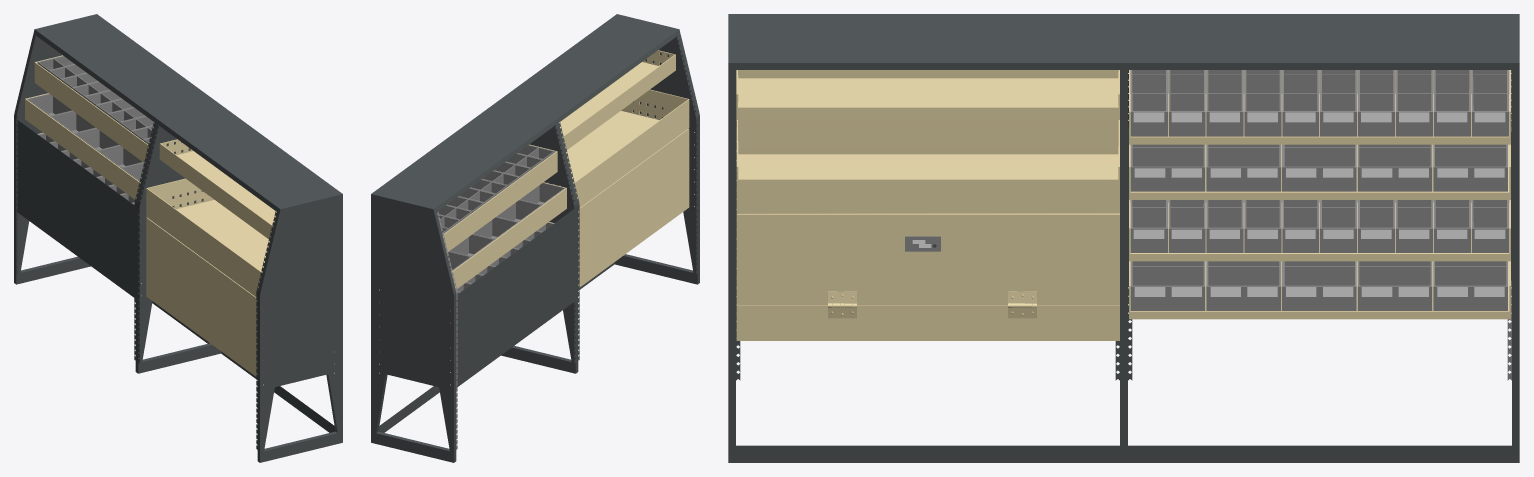
Rendered from ContractorsKit–LongBays.fbx.
3 views of the same model, side by side, from view 1: azimuth 30°, elevation 25°; view 2: azimuth 150°, elevation 25°; view 3: azimuth 270°, elevation 25° (orthographic). The views are drawn at different scales.
Parts seen in each view (by area): view 1: Steel, Cream_Paint, Gray_Plastic; view 2: Steel, Cream_Paint, Gray_Plastic; view 3: Cream_Paint, Gray_Plastic, Steel, White.
Part boxes in pixels (<box>): Steel: <box>14,14,342,462</box>; Cream_Paint: <box>25,55,334,376</box>; Gray_Plastic: <box>16,36,154,273</box>; Steel: <box>371,14,699,462</box>; Cream_Paint: <box>379,50,689,360</box>; Gray_Plastic: <box>379,145,565,449</box>; Cream_Paint: <box>736,70,1510,340</box>; Gray_Plastic: <box>905,70,1511,380</box>; Steel: <box>728,14,1519,462</box>; White: <box>912,112,1505,296</box>.
Bounding box in the file's own units: 414 × 1160 × 2080.
